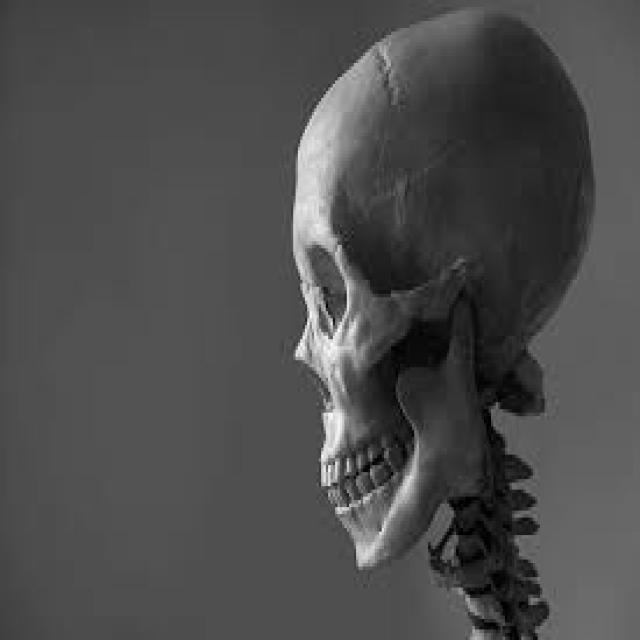skull: (280, 0, 596, 574)
